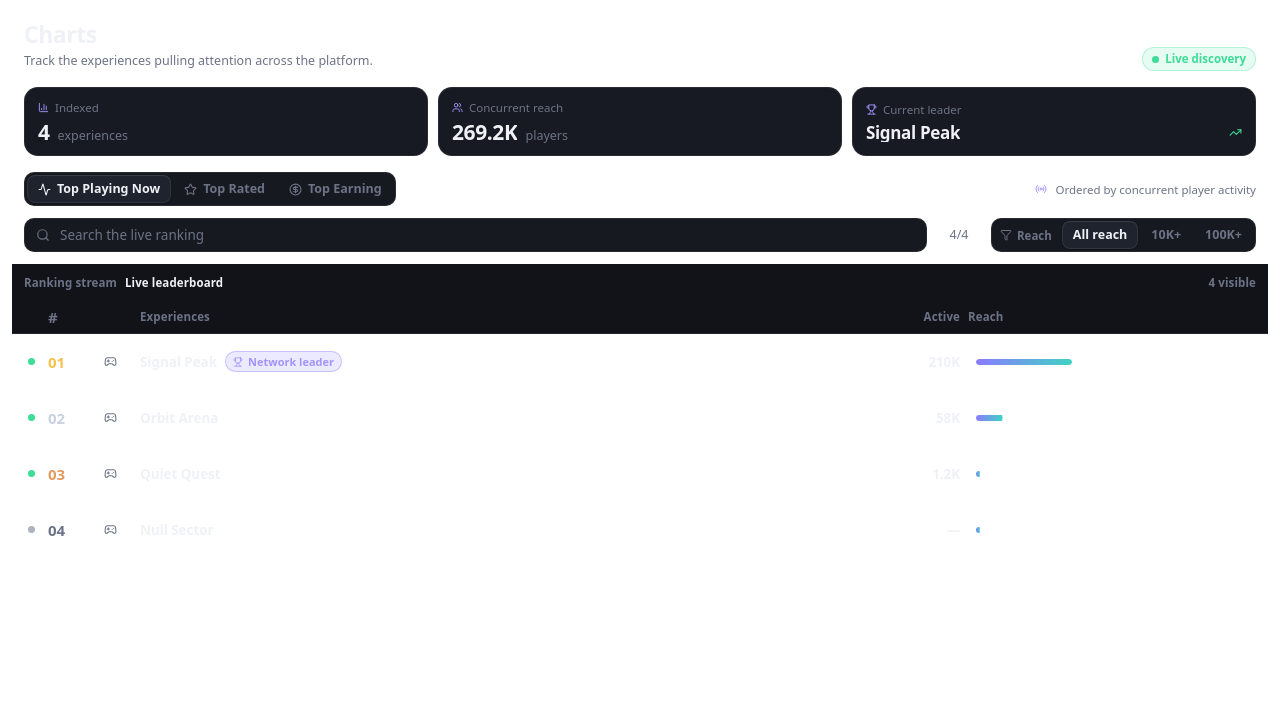
Test: ChartsPage discovery controls › searches locally, reports the result count, and restores the chart on clear
Expected: the element named "rank 1: signal peak" is shown, [12,334,1268,390]
In the search field named "search games": (488, 235) [58,218,919,252], type "quiet"
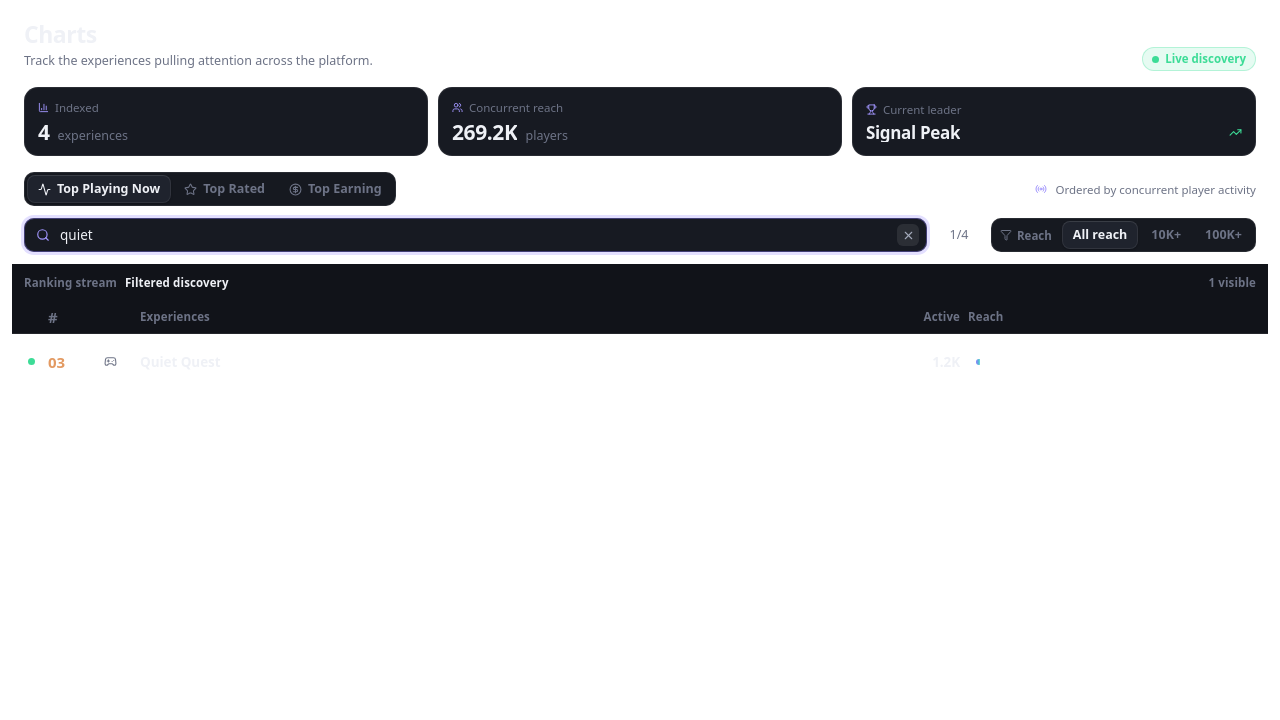
Expected: the element named "rank 3: quiet quest" is shown, [28,342,1072,382]
Expected: the text "1/4" is shown, [950,226,968,243]
Click the button named "clear search": (908, 235) [897,224,919,246]
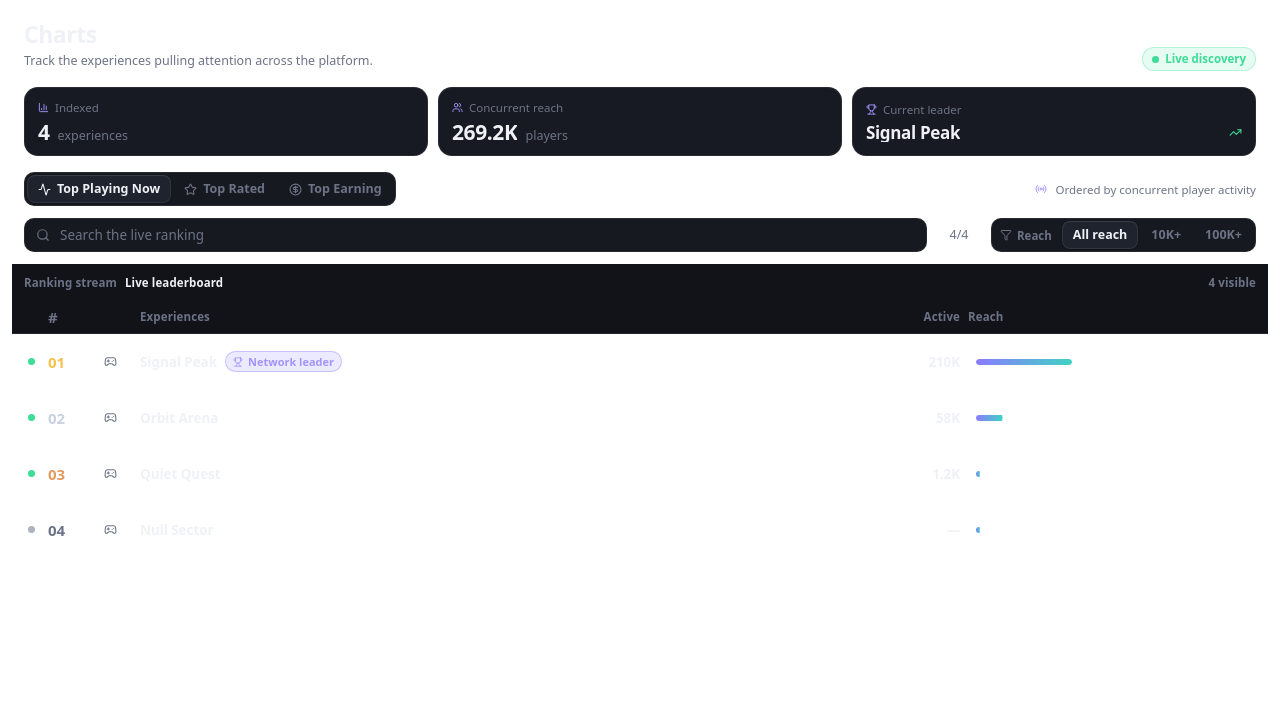
Expected: the element named "rank 1: signal peak" is shown, [12,334,1268,390]
Expected: the search field named "search games" is empty, [58,218,919,252]
